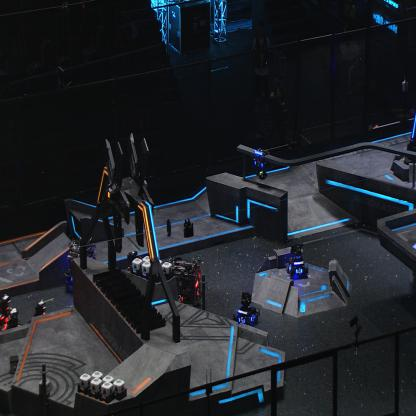car: (64, 236, 98, 293), (167, 257, 202, 310), (0, 306, 27, 345), (24, 299, 51, 337), (233, 292, 260, 329), (284, 242, 308, 281), (126, 250, 148, 282), (0, 292, 15, 337)
